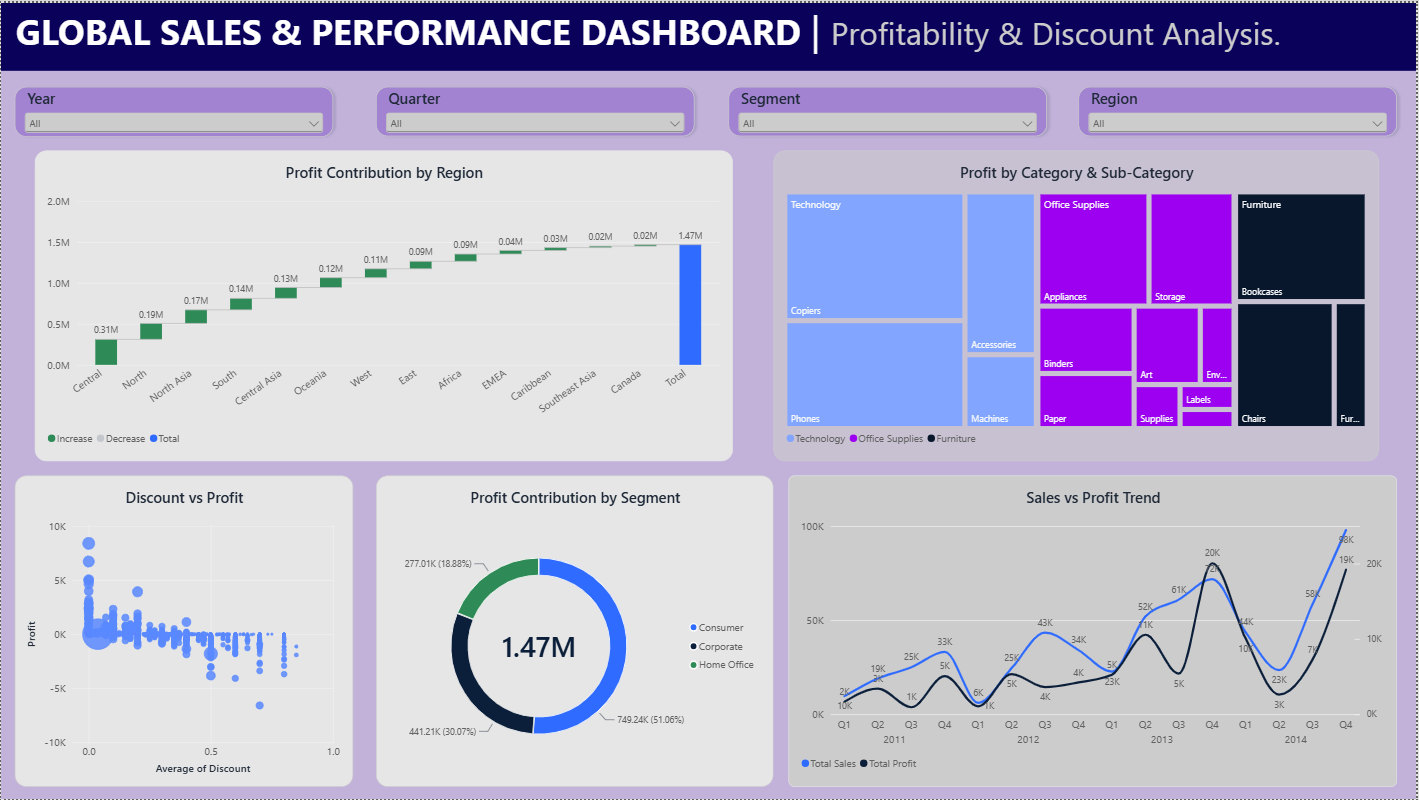

The dashboard page shown, as its layout file describes it:
{"tool":"powerbi","page":{"name":" Profitability & Discount Analysis.","canvas":[1920,1080],"ordinal":2},"visuals":[{"type":"textbox","box":[0,0,1920,92.4],"z":4000},{"type":"slicer","fields":{"Values":["DateTable.Year"]},"box":[18.5,113.2,432.2,67.9],"z":5000},{"type":"slicer","fields":{"Values":["Orders.Region"]},"box":[1462.2,113.9,432,67],"z":6000},{"type":"slicer","fields":{"Values":["DateTable.Quarter"]},"box":[509.3,113.4,432,67],"z":7000},{"type":"slicer","fields":{"Values":["Orders.Segment"]},"box":[987.2,113.4,432,67],"z":8000},{"type":"donutChart","title":"Profit Contribution by Segment","fields":{"Category":["Orders.Segment"],"Y":["Measures (2).Total Profit"]},"box":[509.2,641.5,539.3,422.1],"z":9000},{"type":"treemap","title":"Profit by Category & Sub-Category","fields":{"Details":["Orders.Sub-Category"],"Group":["Orders.Category"],"Values":["Measures (2).Total Profit"]},"box":[1048.5,199.3,821.3,422],"z":10000},{"type":"scatterChart","title":"Discount vs Profit","fields":{"Size":["Sum(Orders.Sales)"],"X":["Avg(Orders.Discount)"],"Y":["Orders.Profit"]},"box":[18.4,641.5,458.9,422.1],"z":11000},{"type":"lineChart","title":"Sales vs Profit Trend","fields":{"Category":["DateTable.Year","DateTable.Quarter"],"Y":["Measures (2).Total Sales"],"Y2":["Measures (2).Total Profit"]},"box":[1068.6,641.5,825.7,422.1],"z":12000},{"type":"waterfallChart","title":"Profit Contribution by Region","fields":{"Category":["Orders.Region"],"Y":["Measures (2).Total Profit"]},"box":[45.2,199.3,946.8,422],"z":13000}]}

Visuals, with their boxes in screenshot pixels (x1, y1, x2, y2), scaled from the page's 1920x1080 canvas onto the 1419x800 screenshot:
textbox: bbox(0, 0, 1418, 68)
slicer - DateTable.Year: bbox(14, 84, 333, 134)
slicer - Orders.Region: bbox(1081, 84, 1400, 134)
slicer - DateTable.Quarter: bbox(376, 84, 696, 134)
slicer - Orders.Segment: bbox(730, 84, 1049, 134)
"Profit Contribution by Segment" donutChart: bbox(376, 475, 775, 788)
"Profit by Category & Sub-Category" treemap: bbox(775, 148, 1382, 460)
"Discount vs Profit" scatterChart: bbox(14, 475, 353, 788)
"Sales vs Profit Trend" lineChart: bbox(790, 475, 1400, 788)
"Profit Contribution by Region" waterfallChart: bbox(33, 148, 733, 460)
